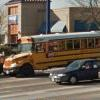Bus: (7, 29, 98, 67)
